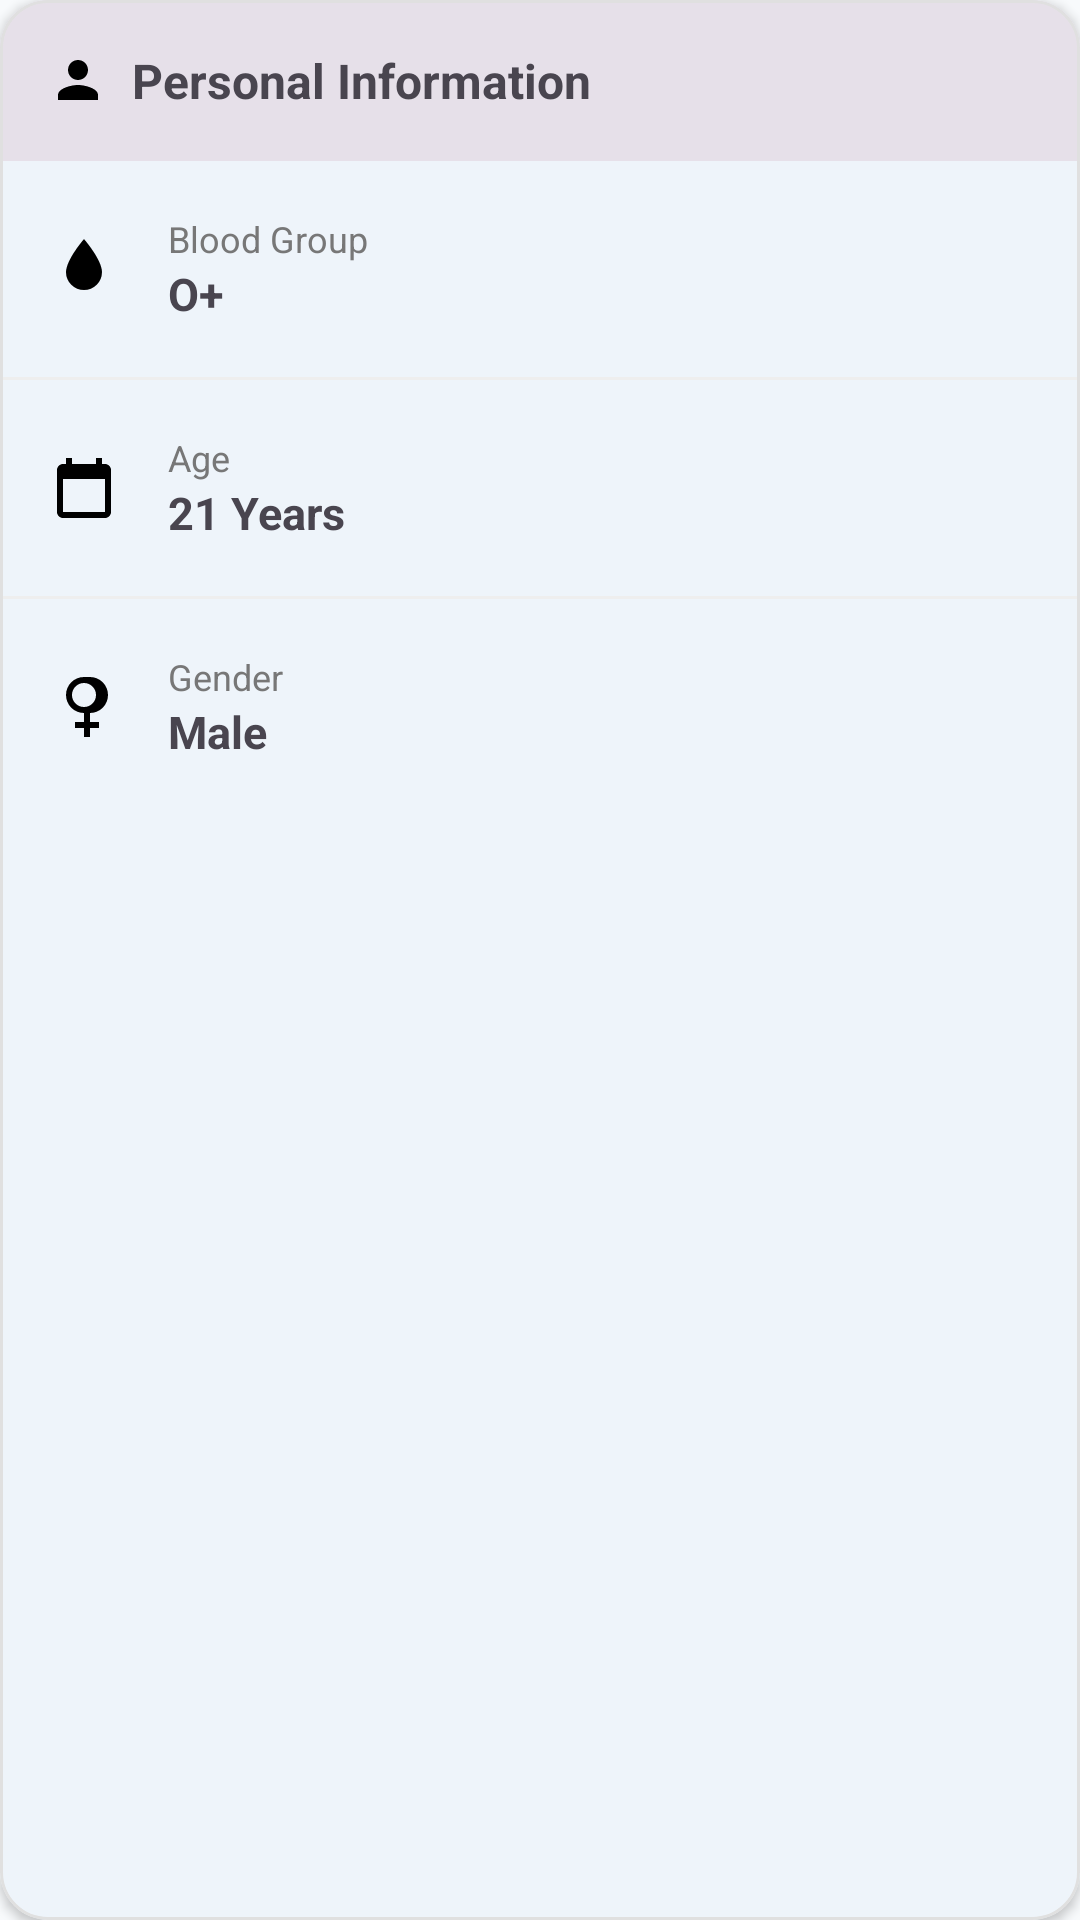

Point at icon controls on the screen. Image size 1080 × 1920, points as (x=x, y=y).
calendar: (x=84, y=488)
